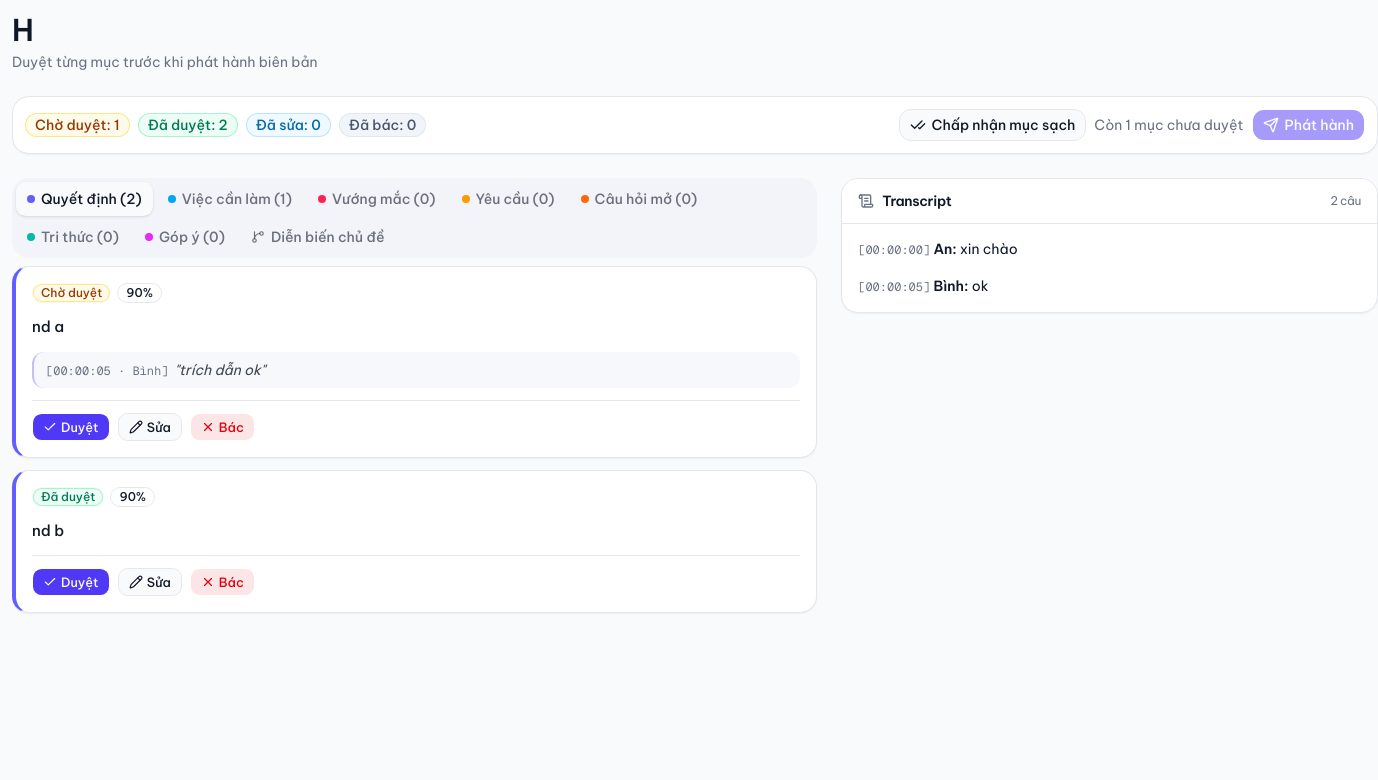
approve/reject disabled while that item's mutation is pending
The width and height of the screenshot is (1378, 780).
Click the button "Duyệt" below "nd a": click(71, 427) [32,413,110,441]
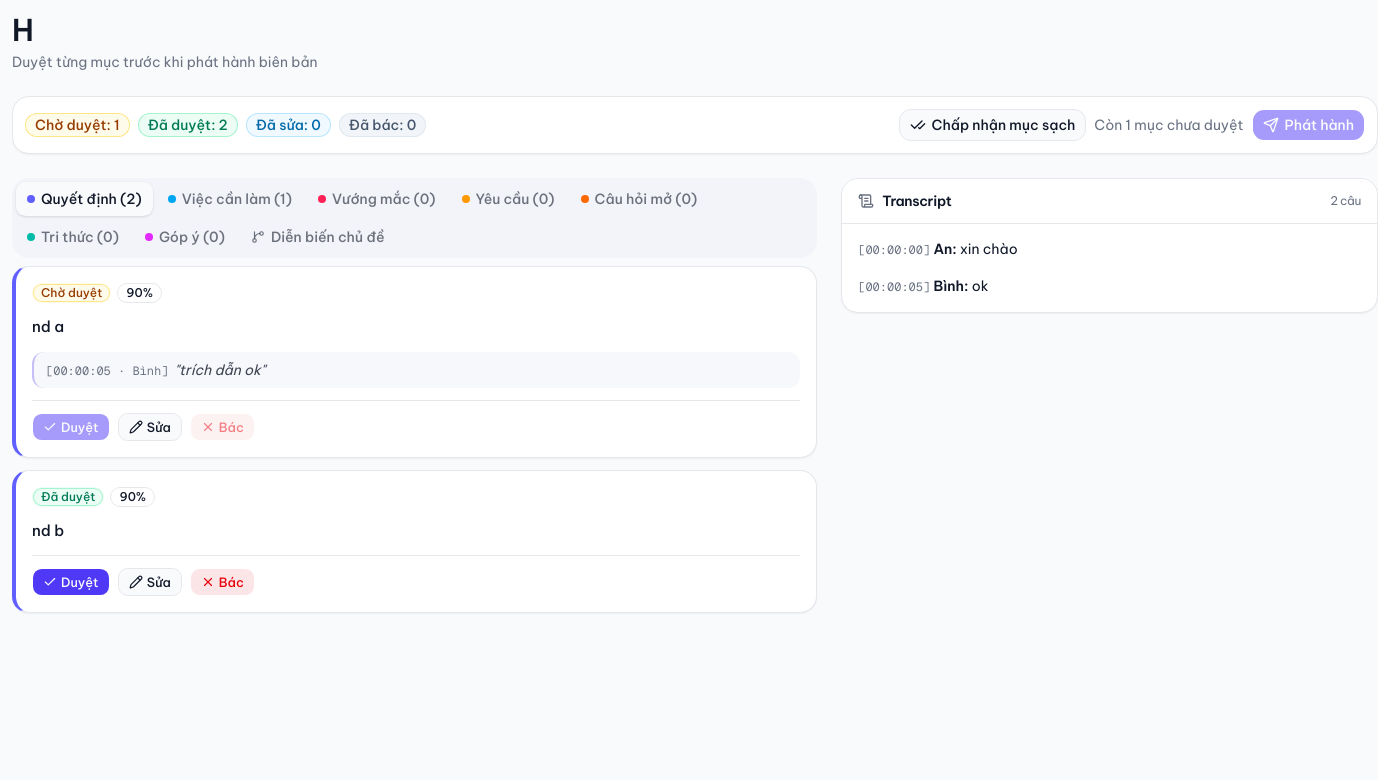
Expected: the button "Duyệt" below "nd b" is enabled, [32,568,110,596]
Result: the button "Duyệt" below "nd a" is disabled at [32,413,110,441]
Result: the button "Bác" below "nd a" is disabled at [190,413,255,441]
